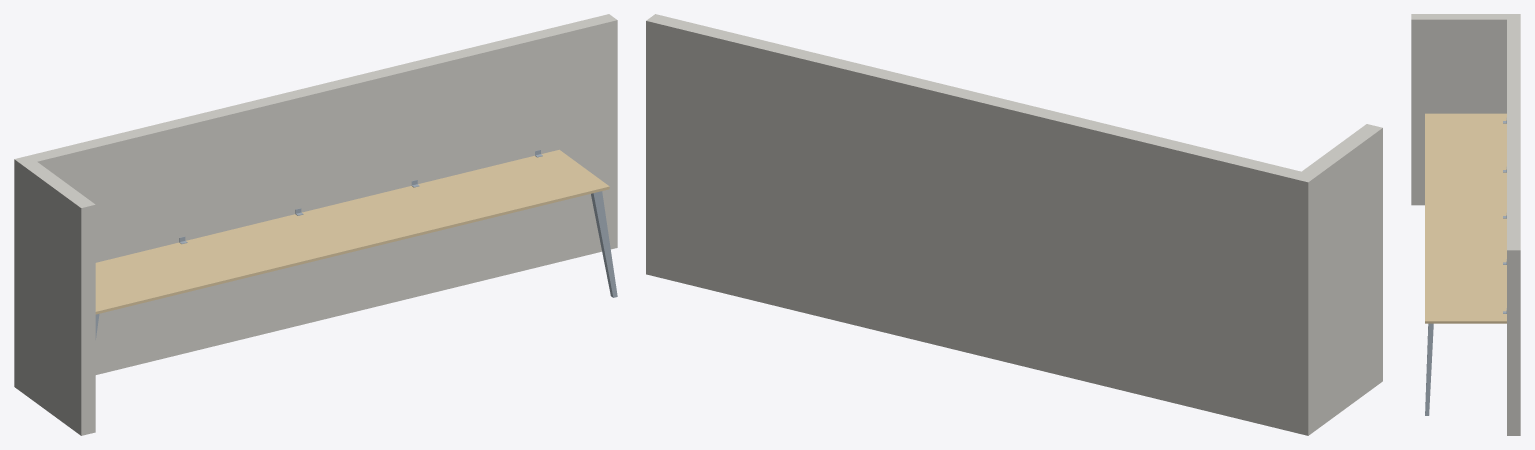
The model's file is birch-ply-desk-chiswick.glb.
3 views of the same model, side by side, from view 1: azimuth 30°, elevation 25°; view 2: azimuth 150°, elevation 25°; view 3: azimuth 270°, elevation 25° (orthographic). The views are drawn at different scales.
Visible parts, largest first — view 1: Room: Back wall, Desk top, Room: Wall at the end, Leg, right; view 2: Room: Back wall, Room: Wall at the end; view 3: Desk top, Room: Wall at the end, Room: Back wall, Leg, right.
Part boxes in pixels (<box>): Room: Back wall: <box>14,14,617,392</box>; Desk top: <box>95,149,609,314</box>; Room: Wall at the end: <box>22,162,95,435</box>; Leg, right: <box>591,191,617,297</box>; Room: Back wall: <box>646,14,1317,435</box>; Room: Wall at the end: <box>1302,124,1382,428</box>; Desk top: <box>1425,113,1506,323</box>; Room: Wall at the end: <box>1411,14,1506,205</box>; Room: Back wall: <box>1507,14,1520,435</box>; Leg, right: <box>1425,323,1433,415</box>.
Bounding box in the file's own units: 4.1 × 1.5 × 0.8.
